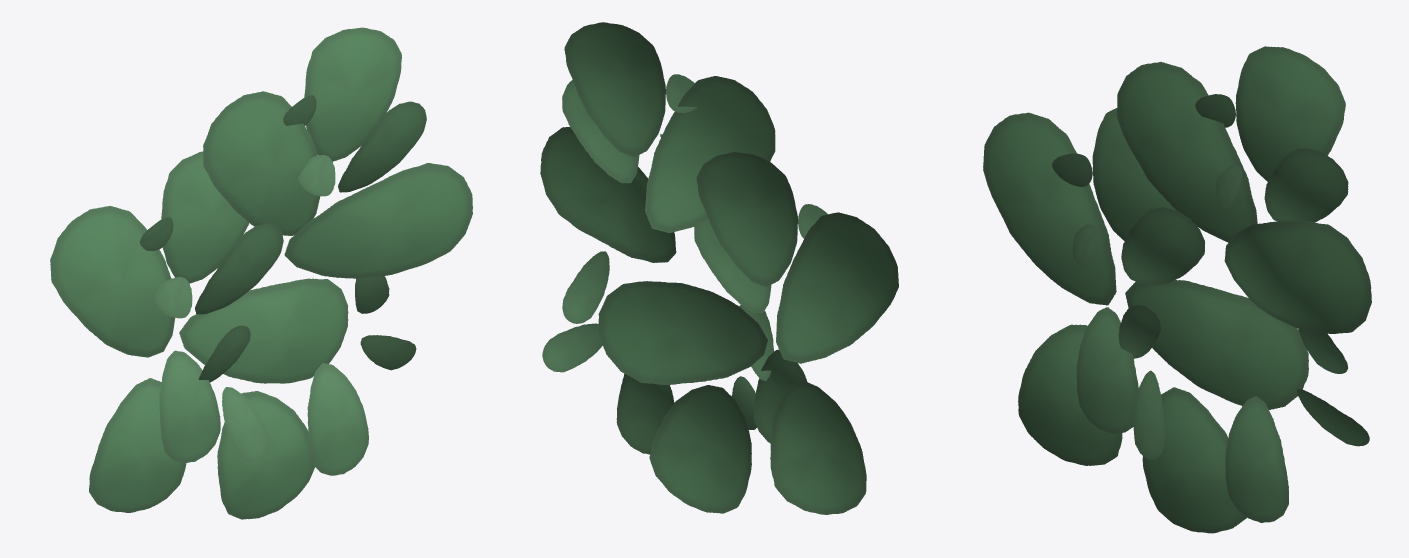
The model's file is Ama_plante_sanctu1.fbx.
The picture shows the model from 3 angles, left to right: view 1: azimuth 30°, elevation 25°; view 2: azimuth 150°, elevation 25°; view 3: azimuth 330°, elevation 25°; orthographic projection. The views are drawn at different scales.
Visible parts, largest first — view 1: Ama_plante_sanctu1; view 2: Ama_plante_sanctu1; view 3: Ama_plante_sanctu1.
Part boxes in pixels (x1,y1,x2,y2): Ama_plante_sanctu1: (50,27,472,519); Ama_plante_sanctu1: (540,22,898,514); Ama_plante_sanctu1: (983,46,1371,533).
Size of the model in its own units: 7.29 by 8.04 by 1.18.
Materials: 1 (1 with a texture image).
